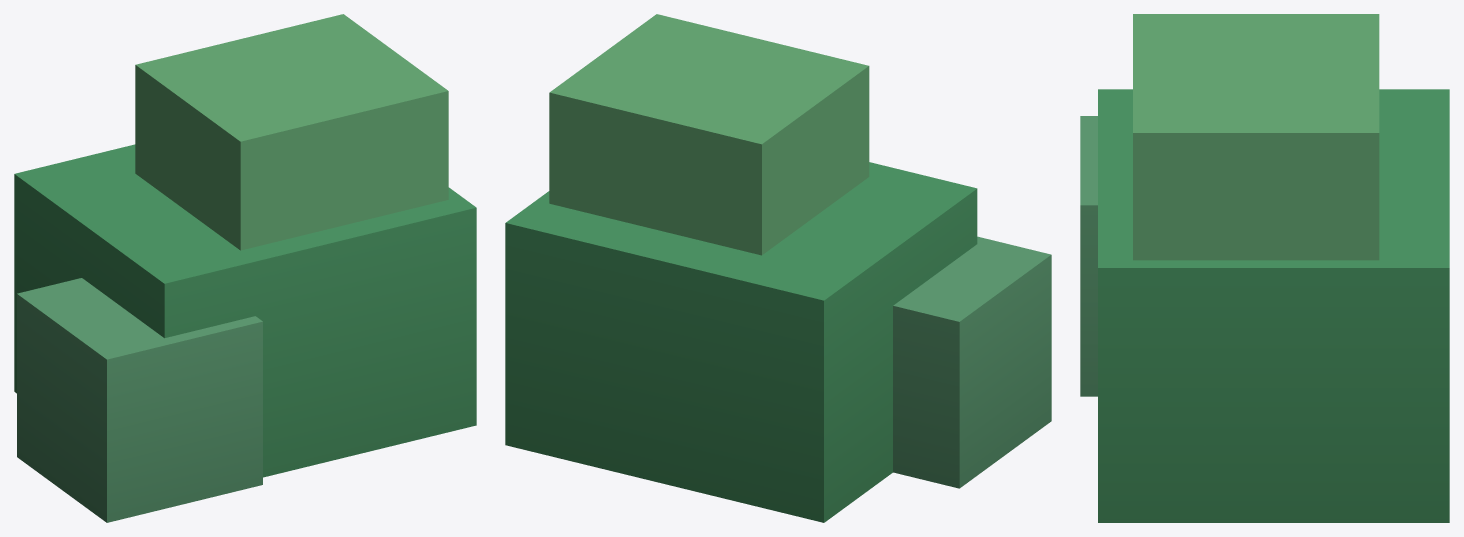
Rendered from bush-block.glb.
3 views of the same model, side by side, from view 1: azimuth 30°, elevation 25°; view 2: azimuth 150°, elevation 25°; view 3: azimuth 270°, elevation 25° (orthographic). The views are drawn at different scales.
Visible parts, largest first — view 1: bush-block_body; view 2: bush-block_body; view 3: bush-block_body.
Part boxes in pixels (x1,y1,x2,y2): bush-block_body: [14, 14, 476, 522]; bush-block_body: [505, 14, 1051, 522]; bush-block_body: [1080, 14, 1449, 522].
Size of the model in its own units: 1.45 by 1.2 by 1.05.
